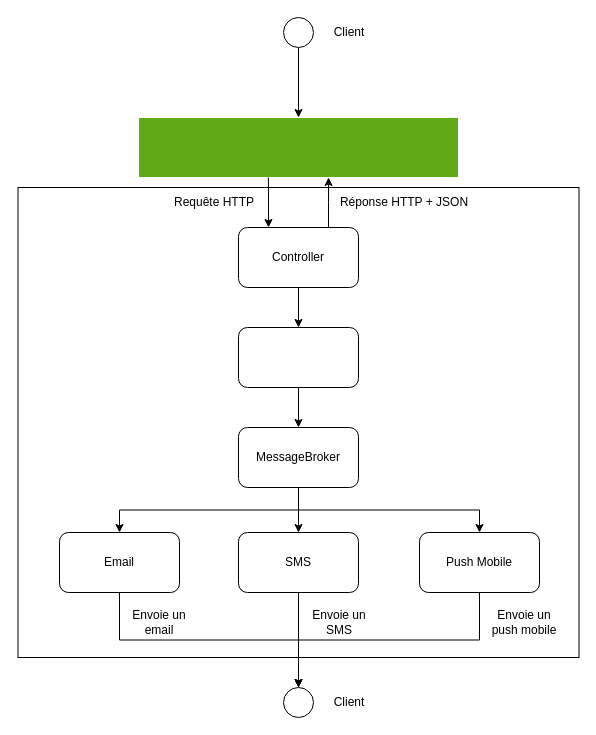
The diagram is 596 pixels wide and 735 high, and some of its shapes have lost their labels. Each missing label, with the centre of its shape:
"API" goes at pixel 298 147.
"EventService" goes at pixel 298 357.
